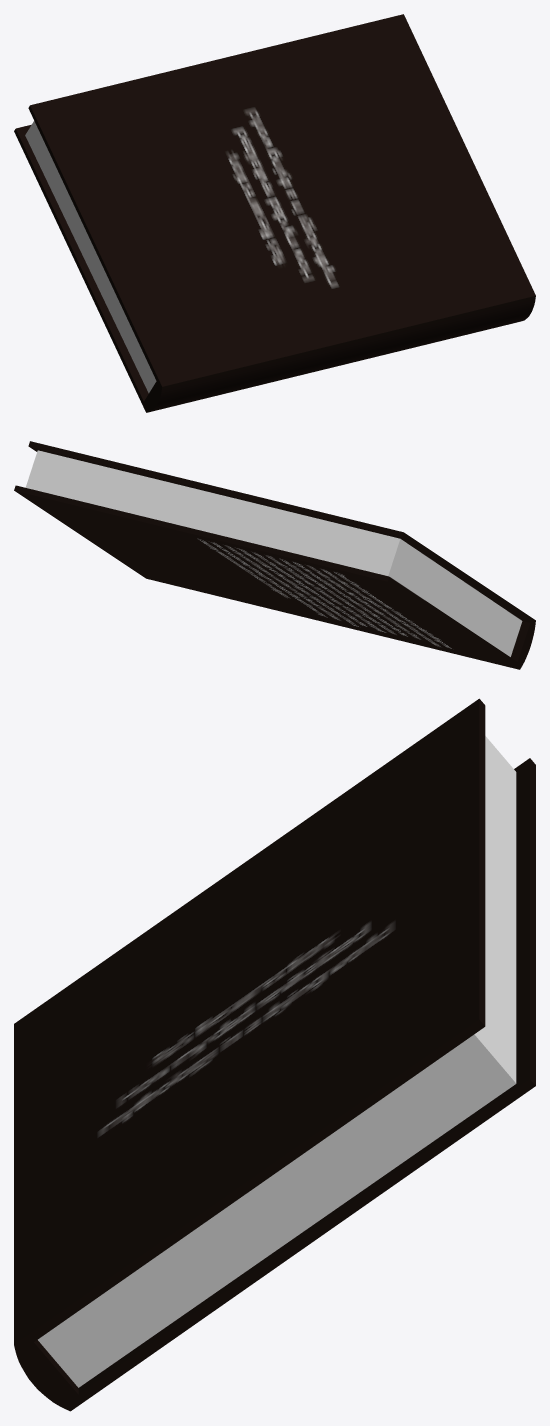
The model's file is RaBook.fbx.
3 renders of one model, top to bottom at view 1: azimuth 30°, elevation 25°; view 2: azimuth 150°, elevation 25°; view 3: azimuth 270°, elevation 25°, orthographic. The views are drawn at different scales.
Visible parts, largest first — view 1: RaBook_Baked; view 2: RaBook_Baked; view 3: RaBook_Baked.
Boxes of the visible parts, bbox=[...] form: RaBook_Baked: bbox=[14, 14, 535, 412]; RaBook_Baked: bbox=[14, 441, 535, 669]; RaBook_Baked: bbox=[14, 698, 535, 1411].
Bounding box in the file's own units: 27.9 × 15.88 × 19.17.
1 material, 1 textured.
